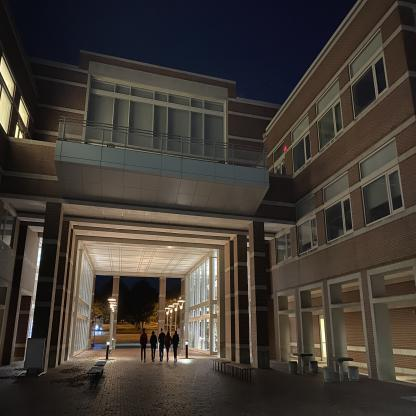eb2: (2, 16, 415, 372)
